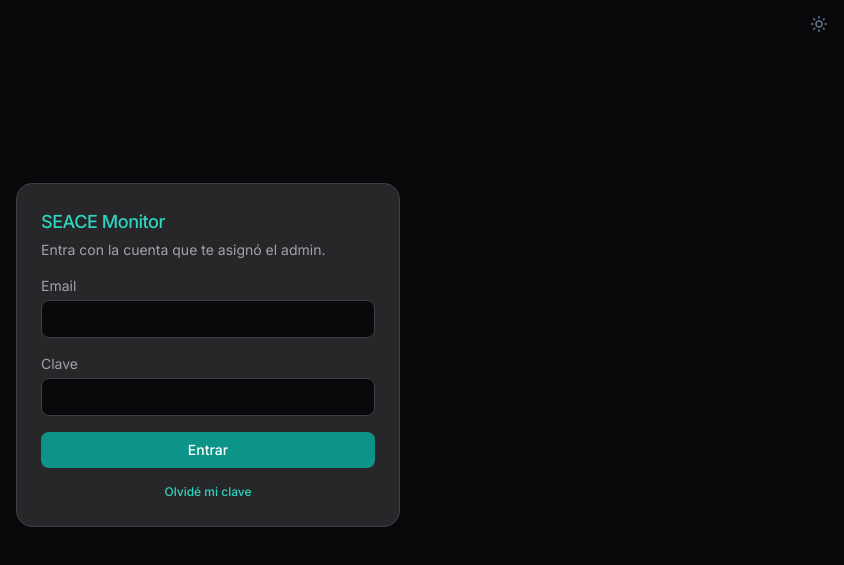
Test case: Login › modo olvidé mi clave pide el email y confirma sin revelar existencia
The image size is (844, 565).
Click the button "Olvidé mi clave": (208, 492) [41,484,375,500]
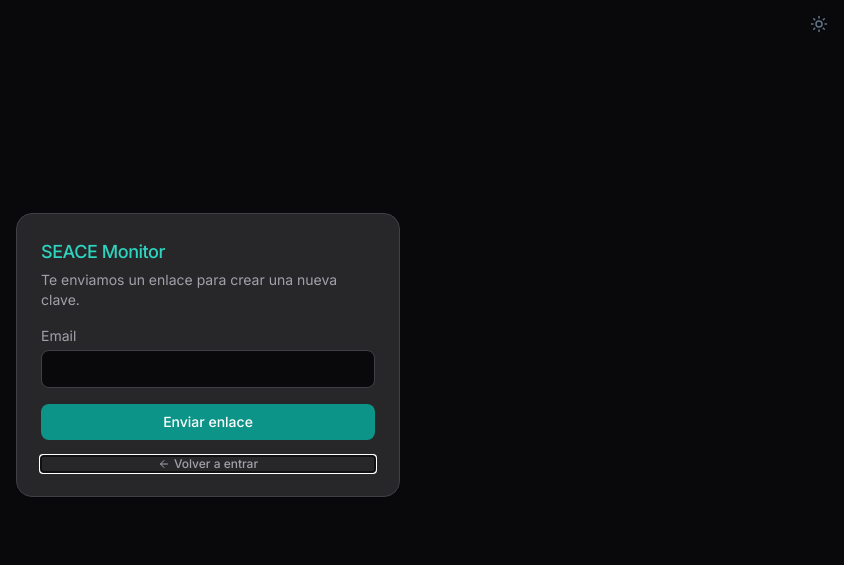
In the field labelled "Email": (208, 369) [41,350,375,388], type "ana@seace.test"
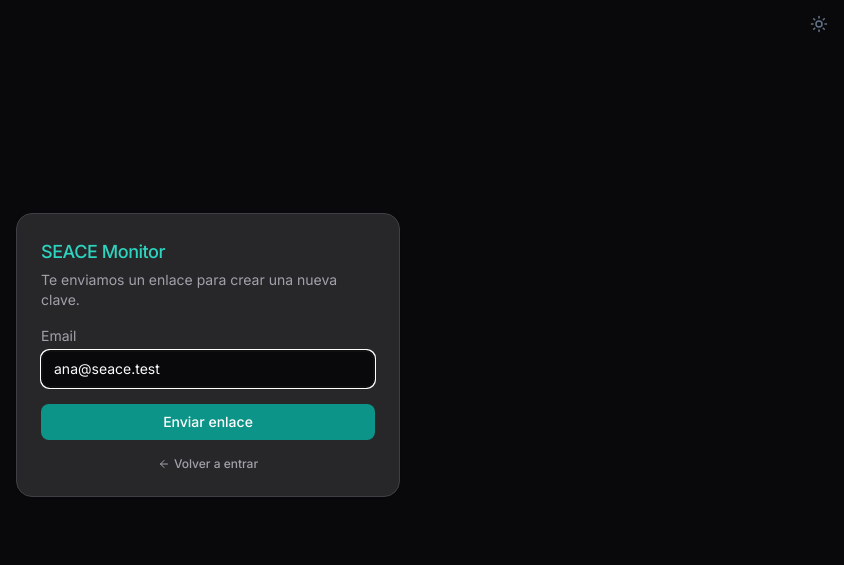
Click the button "Enviar enlace": (208, 422) [41,404,375,440]
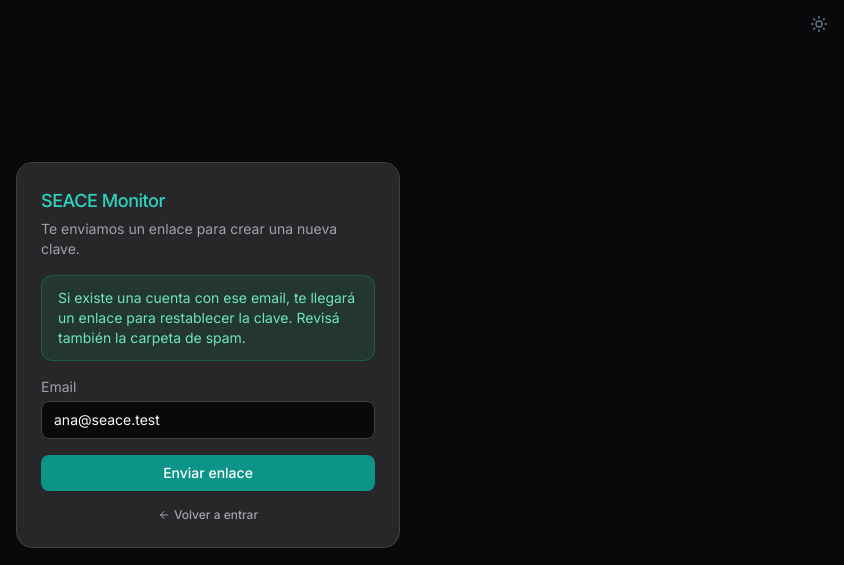
Check: the text "te llegará un enlace" is shown, box [58,289,355,346]
